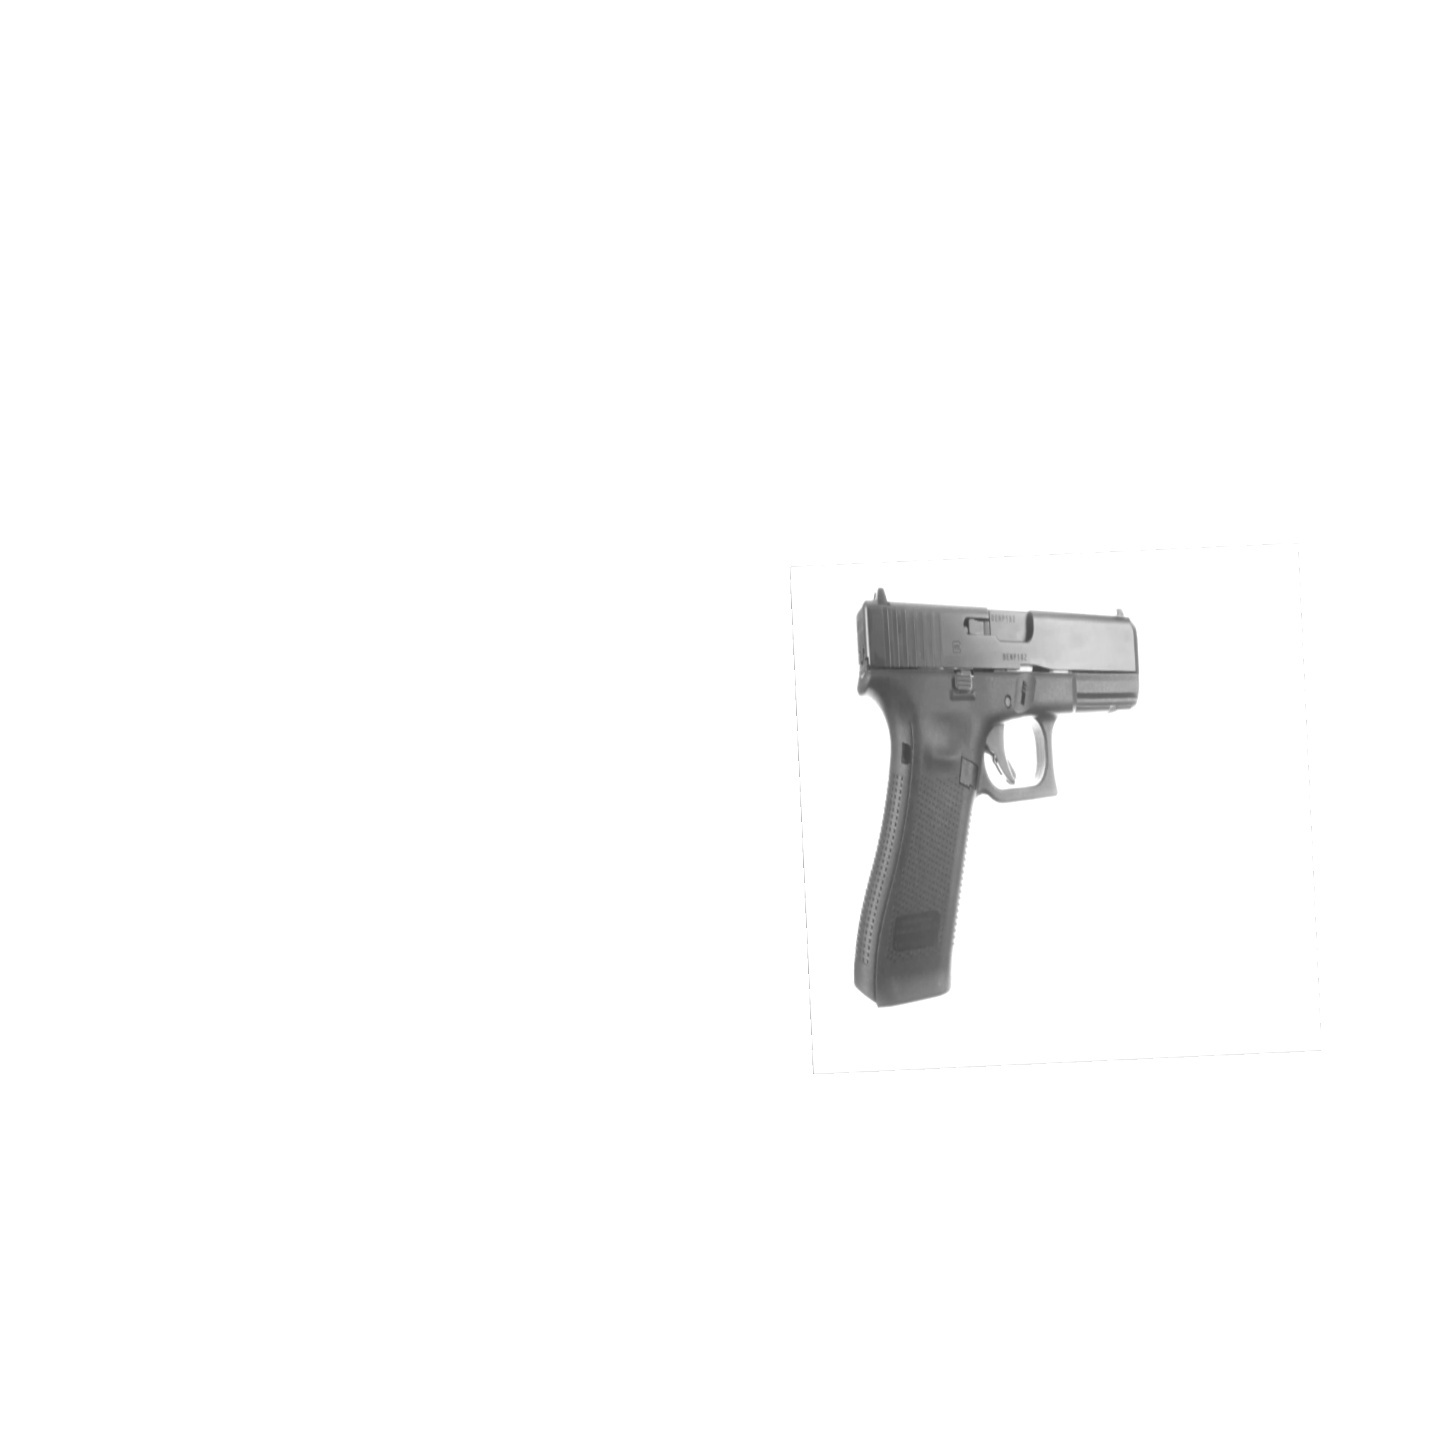gun: (853, 589, 1140, 1007)
